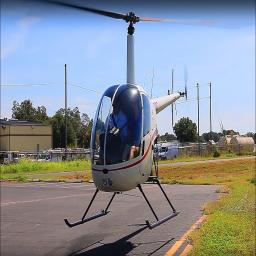helicopter: (65, 2, 247, 233)
